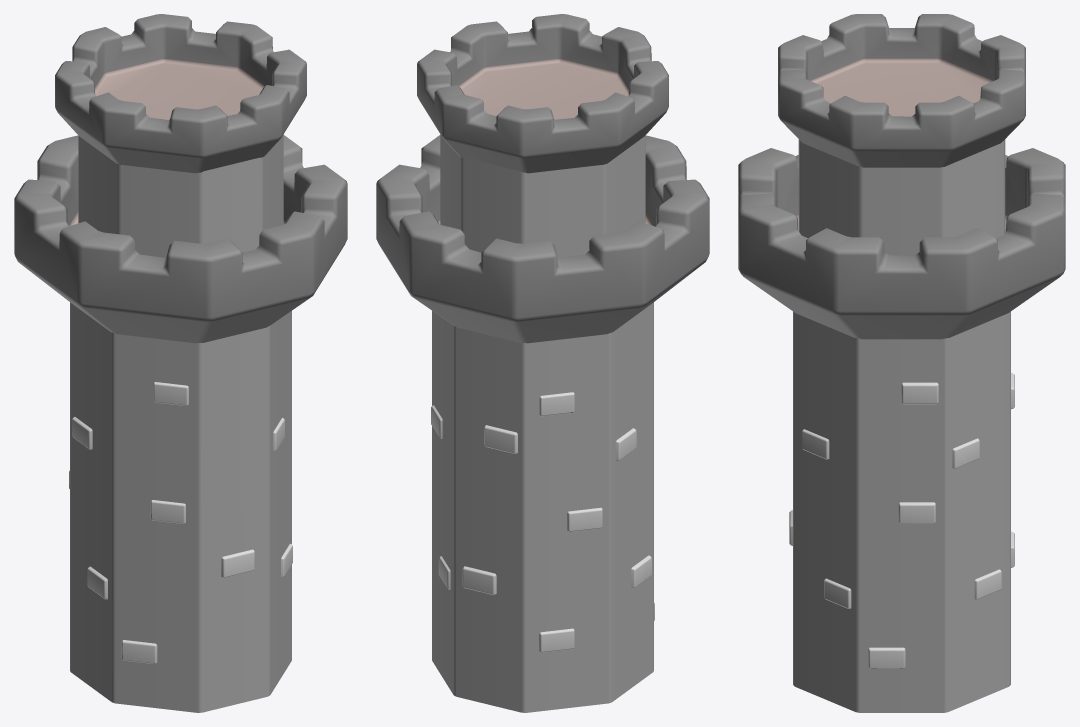
Rendered from castle_tower_006.gltf.
3 views of the same model, side by side, from view 1: azimuth 30°, elevation 25°; view 2: azimuth 150°, elevation 25°; view 3: azimuth 270°, elevation 25° (orthographic).
Visible parts, largest first — view 1: castle_tower_006; view 2: castle_tower_006; view 3: castle_tower_006.
Boxes of the visible parts, x1,y1,x2,y2 form: castle_tower_006: [14, 14, 347, 712]; castle_tower_006: [376, 14, 709, 712]; castle_tower_006: [738, 14, 1065, 712].
Size of the model in its own units: 4.22 by 8.95 by 4.39.
1 material, 1 textured.
